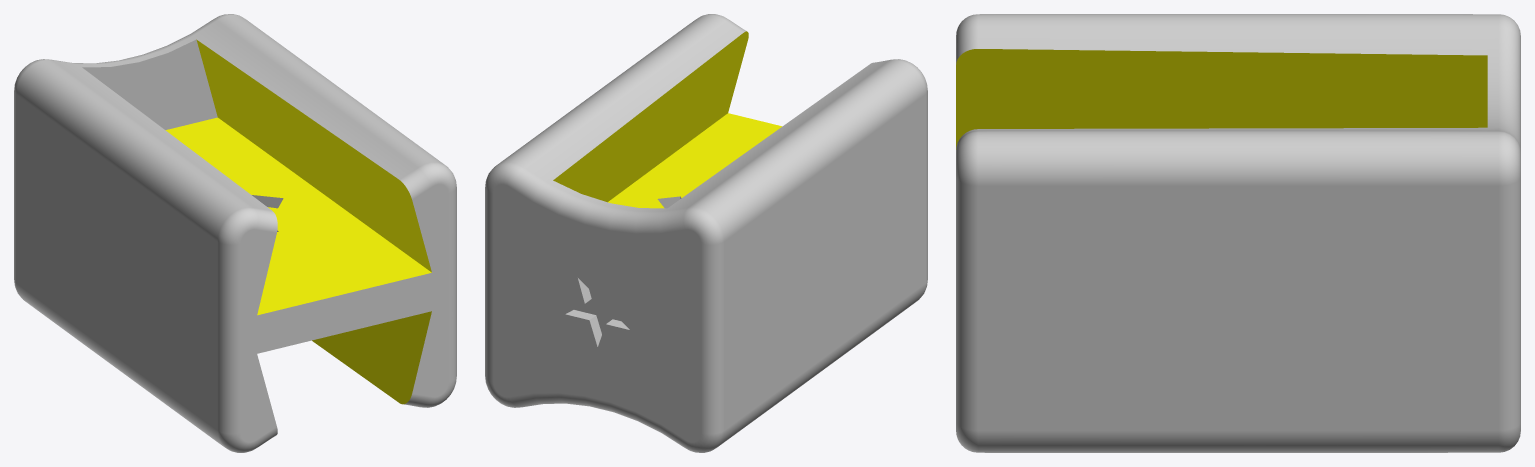
File: join.glb
3 views of the same model, side by side, from view 1: azimuth 30°, elevation 25°; view 2: azimuth 150°, elevation 25°; view 3: azimuth 270°, elevation 25° (orthographic). The views are drawn at different scales.
Parts seen in each view (by area): view 1: Body1; view 2: Body1; view 3: Body1.
Boxes of the visible parts, x1,y1,x2,y2 form: Body1: (14,14,456,452); Body1: (485,14,927,452); Body1: (956,14,1520,452).
Size of the model in its own units: 1.6 by 1.57 by 2.55.
